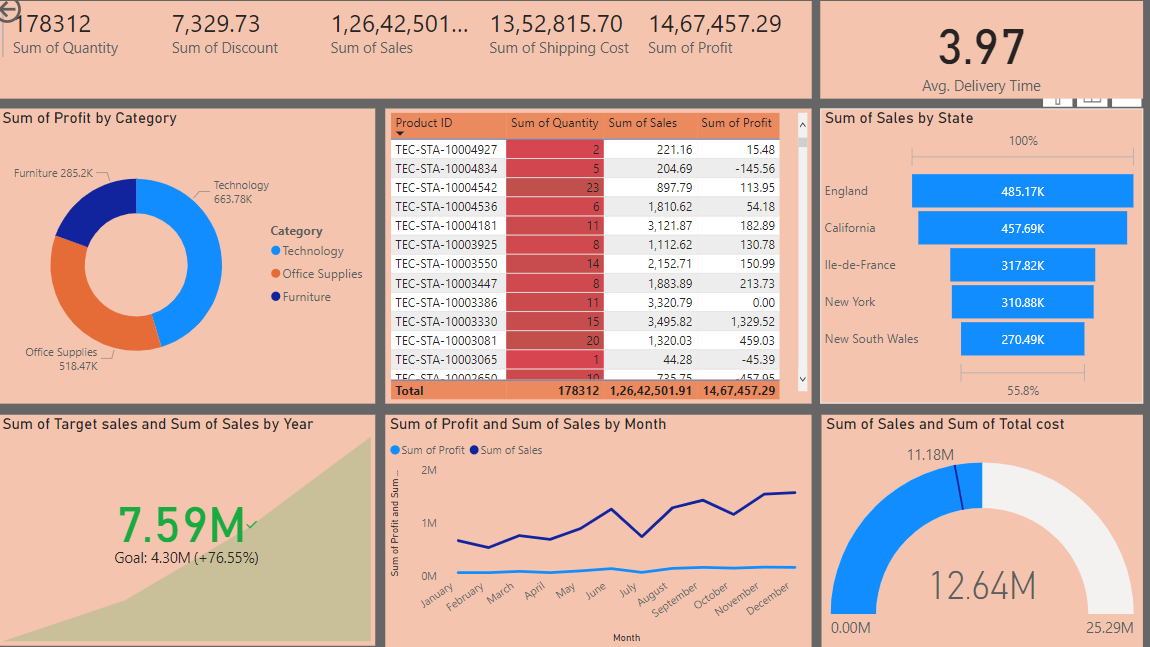

This screenshot's page, from the dashboard's own definition file:
{"tool":"powerbi","page":{"name":"Page 2","canvas":[1280,720],"ordinal":1},"visuals":[{"type":"multiRowCard","fields":{"Values":["Sum(Orders.Quantity)","Sum(Orders.Discount)","Sum(Orders.Sales)","Sum(Orders.Shipping Cost)","Orders.Sum of Profit"]},"box":[9.6,11,893.3,107],"z":0},{"type":"kpi","fields":{"Indicator":["Sum(Orders.Target sales)"],"Goal":["Sum(Orders.Sales)"],"TrendLine":["Orders.Order Date.Variation.Date Hierarchy.Year"]},"box":[9.6,465.2,414.4,253.9],"z":1000},{"type":"donutChart","fields":{"Category":["Orders.Category"],"Y":["Sum(Orders.Profit)"]},"box":[9.6,129,414.4,323.8],"z":2000},{"type":"tableEx","fields":{"Values":["Orders.Product ID","Sum(Orders.Quantity)","Sum(Orders.Sales)","Sum(Orders.Profit)"]},"box":[435,129,467.9,323.8],"z":3000},{"type":"actionButton","box":[0,0,100,40],"z":4000},{"type":"funnel","fields":{"Y":["Sum(Orders.Sales)"],"Category":["Orders.State"]},"box":[912.5,129,354,323.8],"z":5000},{"type":"card","fields":{"Values":["Orders.Avg. Delivery Time"]},"box":[912.5,11,354,107],"z":6000},{"type":"gauge","fields":{"Y":["Sum(Orders.Sales)"],"TargetValue":["Sum(Orders.Total cost)"]},"box":[913.9,465.2,352.7,255.2],"z":7000},{"type":"lineChart","fields":{"Category":["Orders.Order Date.Variation.Date Hierarchy.Month"],"Y":["Sum(Orders.Profit)","Sum(Orders.Sales)"]},"box":[435,465.2,467.9,255.2],"z":8000}]}

Visuals, with their boxes in screenshot pixels (x1, y1, x2, y2), scaled from the page's 1280x720 canvas onto the 1150x647 screenshot:
multiRowCard - Sum(Orders.Quantity) x Sum(Orders.Discount): left=9, top=10, right=811, bottom=106
kpi - Sum(Orders.Target sales) x Sum(Orders.Sales): left=9, top=418, right=381, bottom=646
donutChart - Orders.Category x Sum(Orders.Profit): left=9, top=116, right=381, bottom=407
tableEx - Orders.Product ID x Sum(Orders.Quantity): left=391, top=116, right=811, bottom=407
actionButton: left=0, top=0, right=90, bottom=36
funnel - Sum(Orders.Sales) x Orders.State: left=820, top=116, right=1138, bottom=407
card - Orders.Avg. Delivery Time: left=820, top=10, right=1138, bottom=106
gauge - Sum(Orders.Sales) x Sum(Orders.Total cost): left=821, top=418, right=1138, bottom=646
lineChart - Orders.Order Date.Variation.Date Hierarchy.Month x Sum(Orders.Profit): left=391, top=418, right=811, bottom=646
